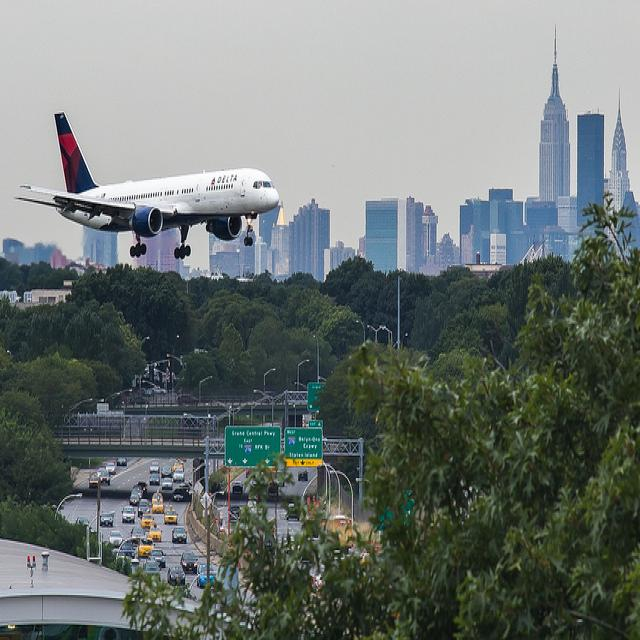Vehicle: (88, 313, 381, 570), (196, 564, 216, 588), (180, 549, 197, 573), (167, 564, 185, 586), (139, 536, 156, 556), (121, 507, 137, 525), (172, 526, 188, 543), (137, 499, 151, 518), (149, 523, 162, 542), (164, 509, 179, 525), (141, 513, 154, 530), (232, 480, 244, 497), (152, 500, 164, 513), (129, 493, 140, 505)
